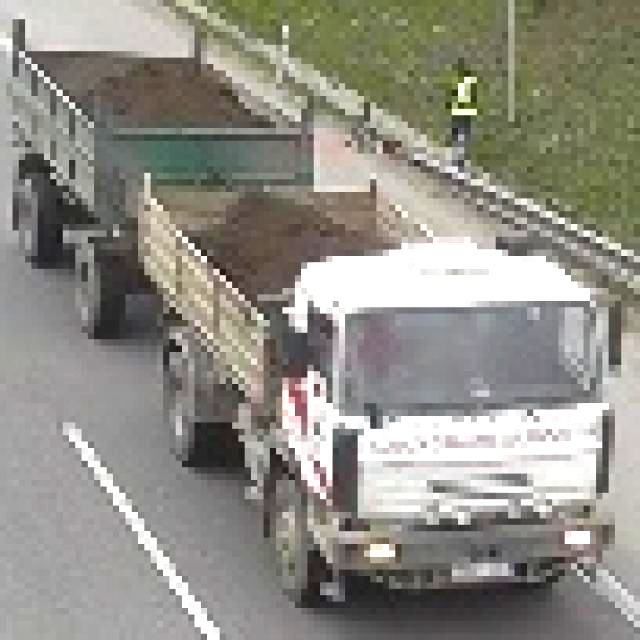truck: (0, 18, 626, 603)
